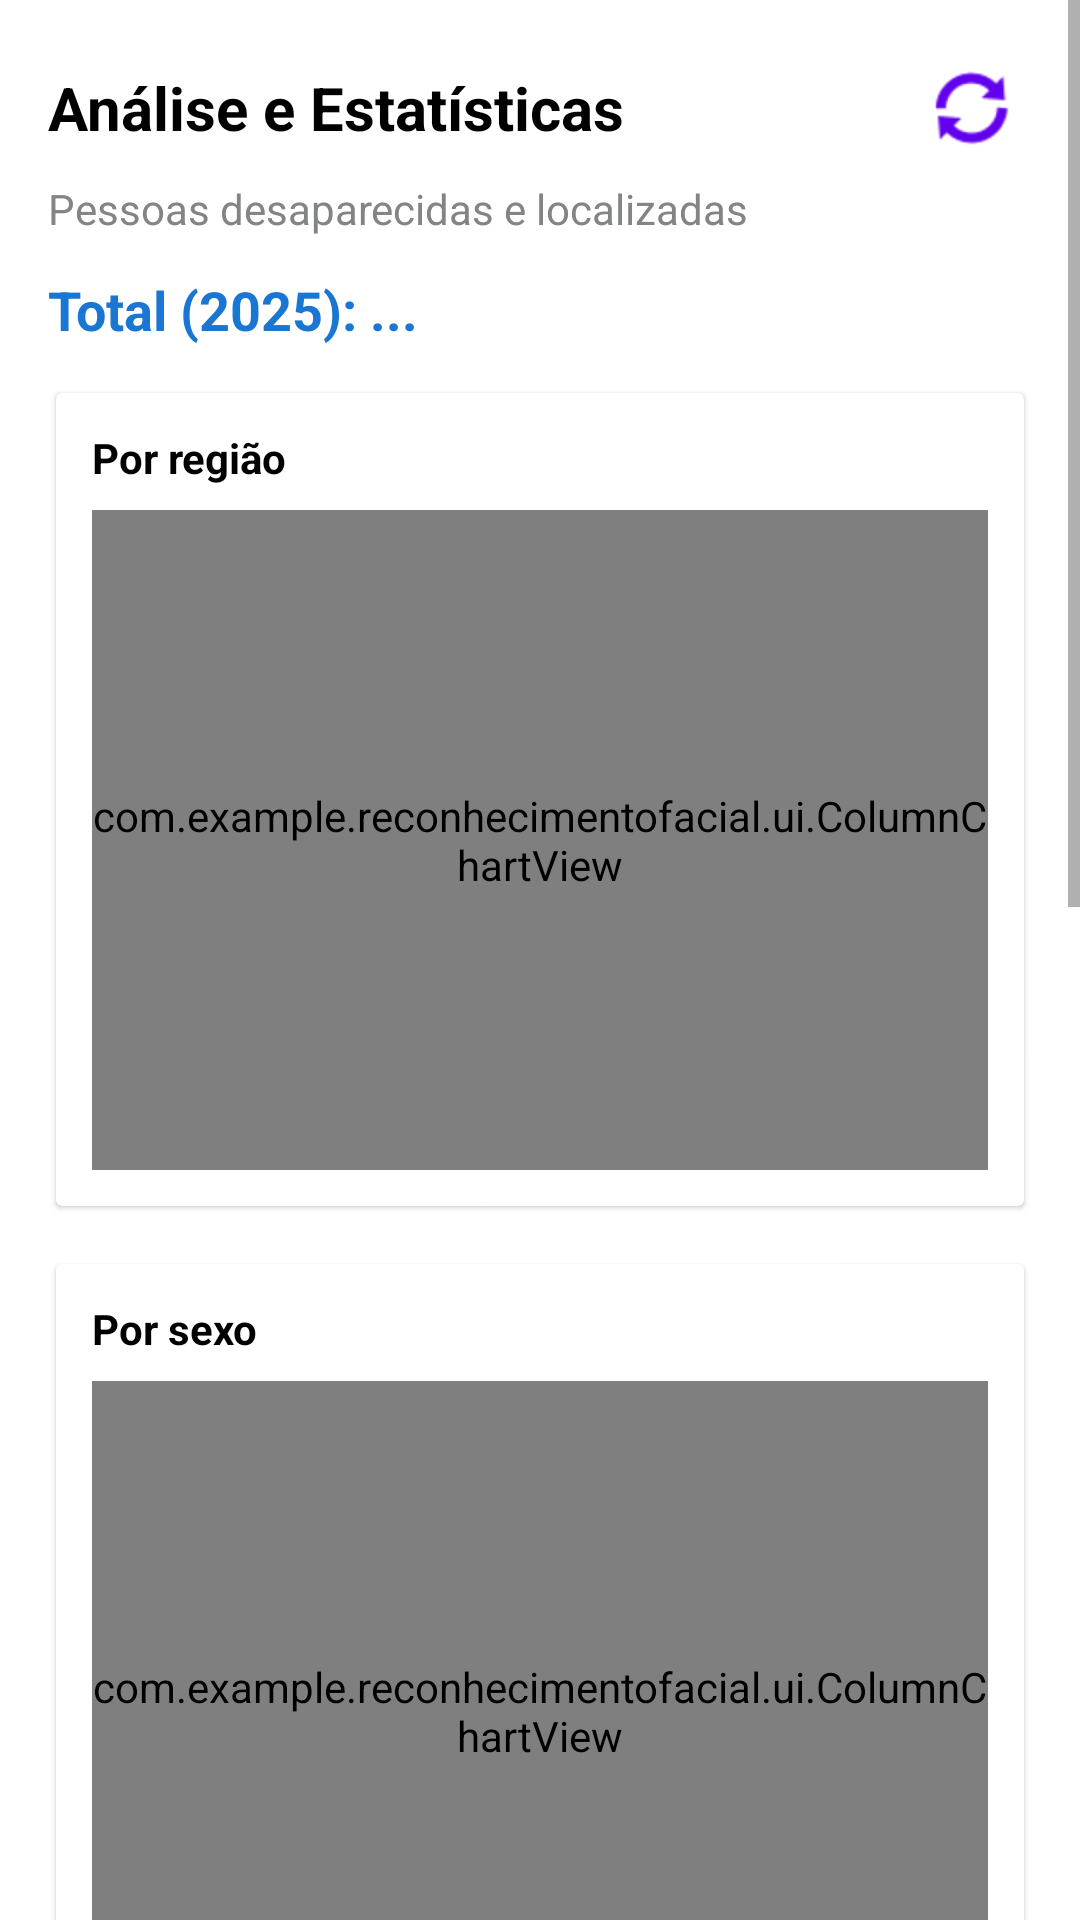

Icon bounding boxes for this 1080×1920 phone screenshot, format (x1, y1, x2, y2):
Atualizar: (935, 72, 1009, 144)
